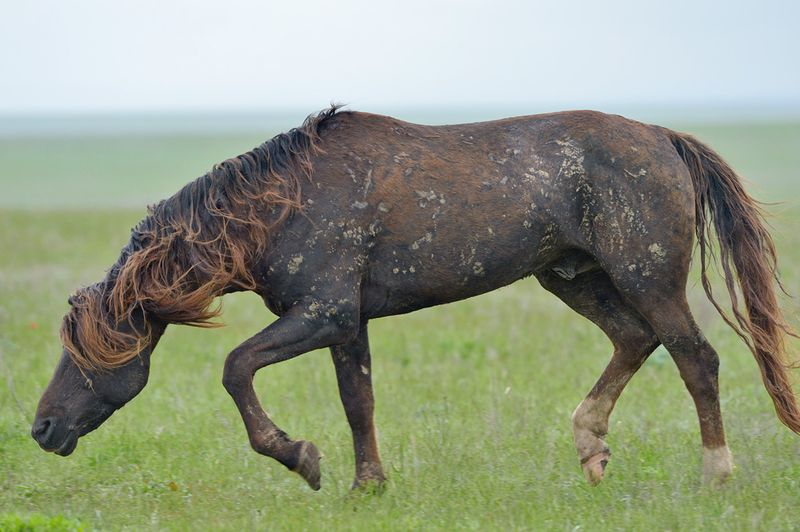horse: (33, 110, 768, 490)
